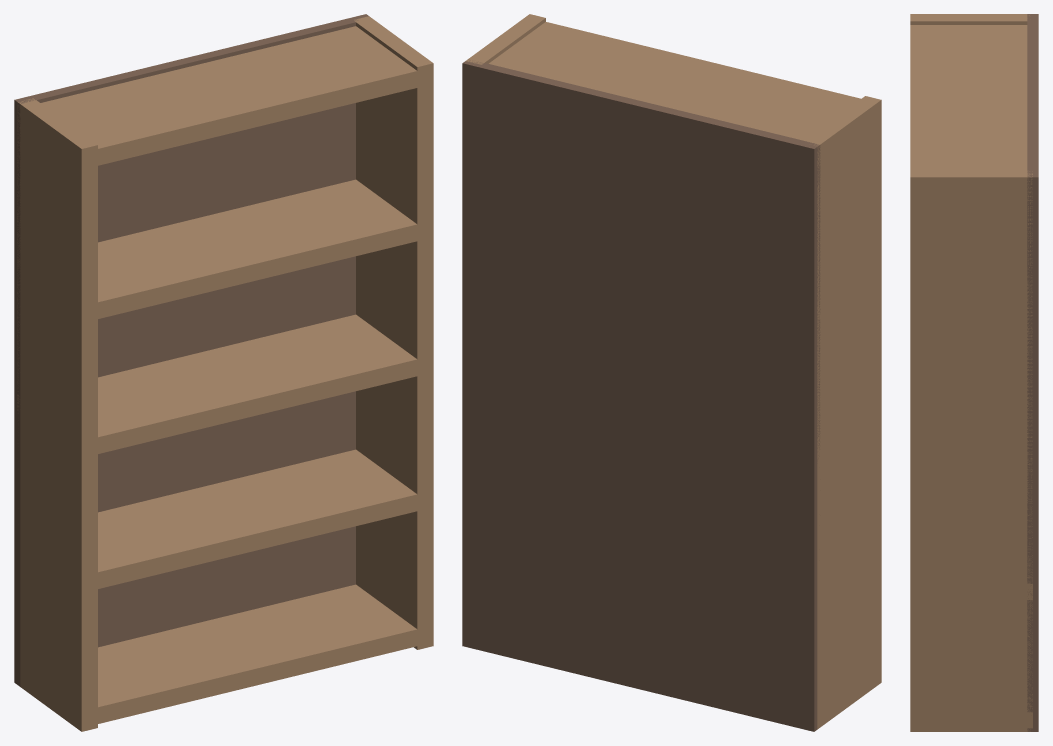
The model's file is bookshelf.glb.
3 views of the same model, side by side, from view 1: azimuth 30°, elevation 25°; view 2: azimuth 150°, elevation 25°; view 3: azimuth 270°, elevation 25° (orthographic). The views are drawn at different scales.
Visible parts, largest first — view 1: Back, Side_-1, Side_1, Shelf_4, Shelf_1, Shelf_0, Shelf_2, Shelf_3; view 2: Back, Side_-1, Shelf_4, Side_1, Shelf_1; view 3: Side_1, Shelf_4, Back, Shelf_0, Shelf_1, Side_-1, Shelf_3, Shelf_2.
Part boxes in pixels (x1=…): Back: x1=14, y1=14, x2=368, y2=686; Side_-1: x1=17, y1=98, x2=97, y2=731; Side_1: x1=354, y1=16, x2=433, y2=649; Shelf_4: x1=17, y1=26, x2=433, y2=168; Shelf_1: x1=20, y1=449, x2=433, y2=592; Shelf_0: x1=20, y1=584, x2=433, y2=727; Shelf_2: x1=17, y1=314, x2=432, y2=457; Shelf_3: x1=17, y1=179, x2=433, y2=322; Back: x1=462, y1=59, x2=820, y2=731; Side_-1: x1=804, y1=96, x2=881, y2=729; Shelf_4: x1=489, y1=22, x2=881, y2=166; Side_1: x1=466, y1=14, x2=545, y2=64; Shelf_1: x1=817, y1=527, x2=881, y2=590; Side_1: x1=910, y1=170, x2=1032, y2=731; Shelf_4: x1=910, y1=25, x2=1031, y2=196; Back: x1=1027, y1=14, x2=1038, y2=731; Shelf_0: x1=910, y1=712, x2=1032, y2=728; Shelf_1: x1=910, y1=584, x2=1032, y2=599; Side_-1: x1=910, y1=14, x2=1029, y2=24; Shelf_3: x1=910, y1=327, x2=1032, y2=342; Shelf_2: x1=911, y1=455, x2=1032, y2=471.
Bounding box in the file's own units: 1.2 × 1.9 × 0.3975.
